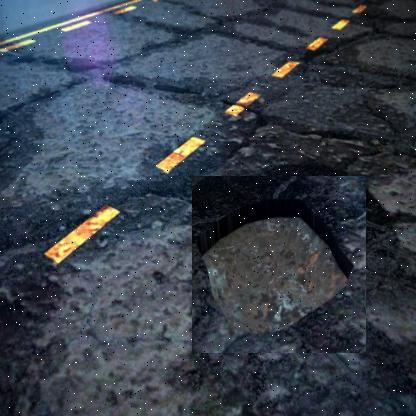pothole: (192, 176, 367, 354)
